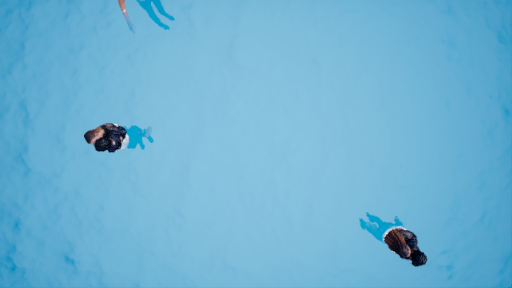person: (352, 209, 435, 266), (83, 120, 157, 153)
